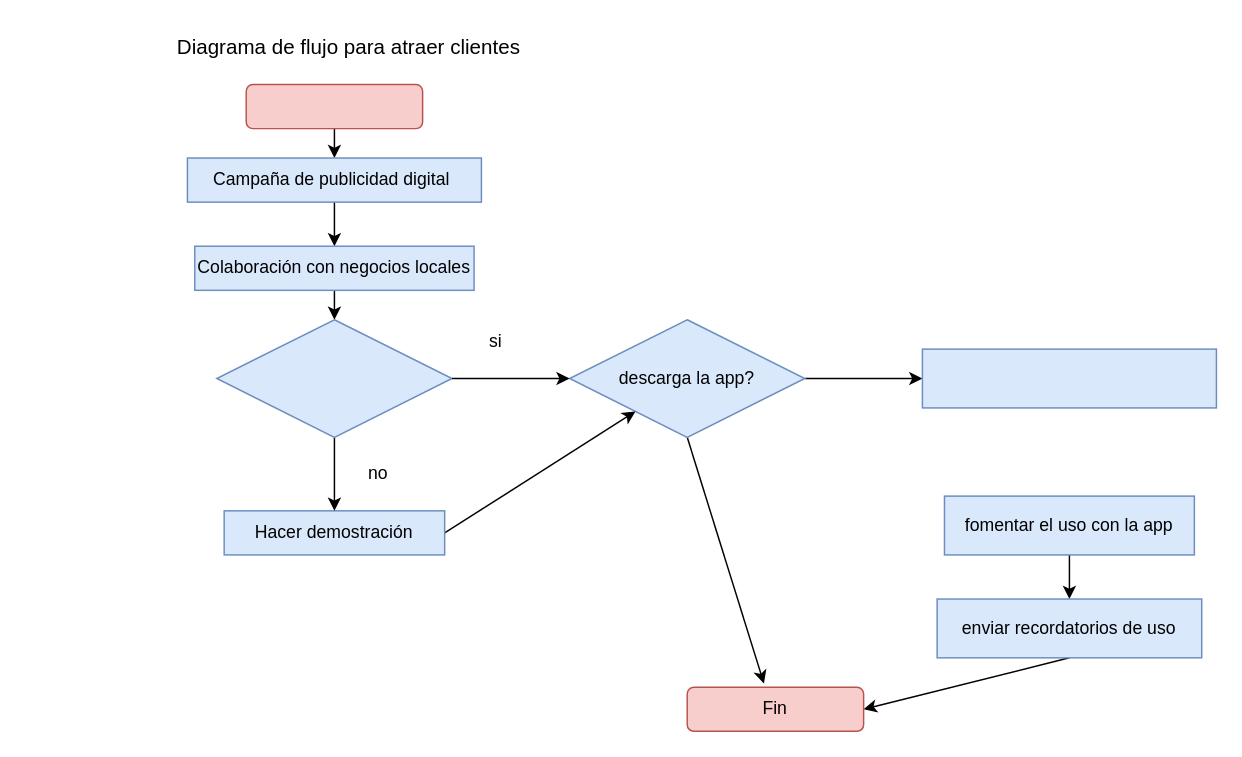
Image size: 1242x757. Some labels were removed from this diagram. Here are the shapes that lost their labels. From the top down, the centre of each, then its label:
At (x=334, y=106): "Inicio".
At (x=333, y=377): "Muestra interes?".
At (x=1068, y=378): "dar prueba gratuita por primer uso".
